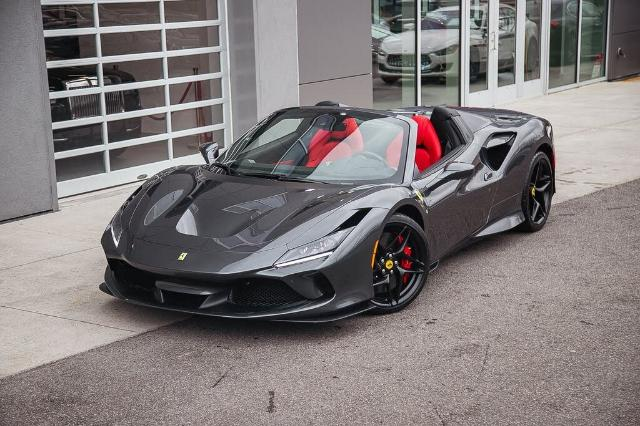ferrari: (99, 100, 557, 324)
